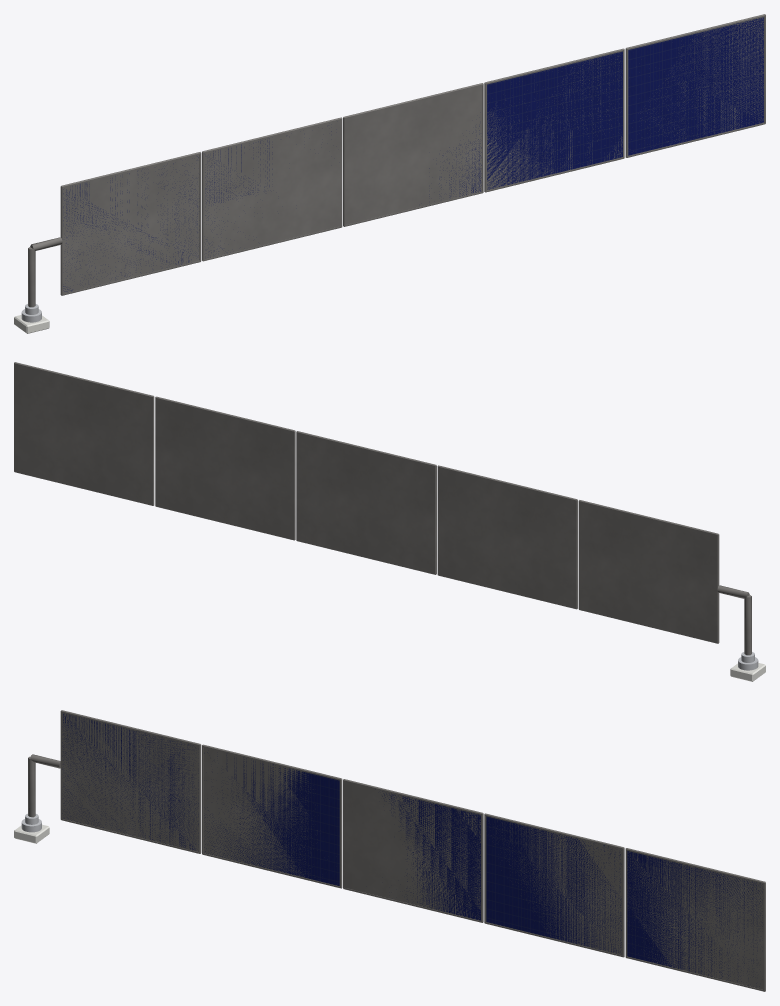
The model's file is ax_power_02_rigid_wing_l_deployed.glb.
3 views of the same model, one above another, from view 1: azimuth 30°, elevation 25°; view 2: azimuth 150°, elevation 25°; view 3: azimuth 330°, elevation 25° (orthographic).
Parts seen in each view (by area): view 1: panel_1, panel_2, panel_3, panel_5_cells, panel_4_cells, panel_5, panel_4, panel_1_cells, yoke; view 2: panel_1, panel_5, panel_2, panel_3, panel_4, yoke; view 3: panel_1, panel_3, panel_5, panel_4_cells, panel_2, panel_4, panel_2_cells, panel_5_cells, panel_3_cells, panel_1_cells, yoke.
Boxes of the visible parts, x1,y1,x2,y2 form: panel_1: (60,152,201,295); panel_2: (202,117,342,261); panel_3: (343,83,483,226); panel_5_cells: (628,17,763,155); panel_4_cells: (487,51,622,189); panel_5: (625,14,765,157); panel_4: (484,48,624,192); panel_1_cells: (63,156,198,291); yoke: (28,237,62,307); panel_1: (578,500,719,643); panel_5: (14,362,154,505); panel_2: (437,465,577,609); panel_3: (296,431,436,574); panel_4: (155,396,295,540); yoke: (717,585,751,655); panel_1: (60,710,201,853); panel_3: (343,779,483,922); panel_5: (625,848,765,991); panel_4_cells: (486,816,621,953); panel_2: (202,744,342,888); panel_4: (484,813,624,957); panel_2_cells: (204,752,339,885); panel_5_cells: (627,851,763,986); panel_3_cells: (375,789,480,920); panel_1_cells: (62,713,198,850); yoke: (28,754,60,817).
Bounding box in the file's own units: 12.78 × 2.19 × 0.4.
Materials: 4 (3 with a texture image).
